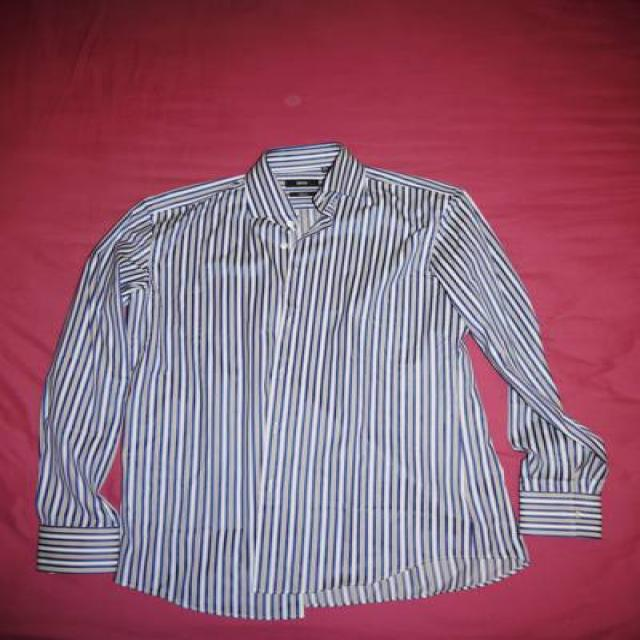Clothes -Biodegradable-: (37, 149, 606, 614)
